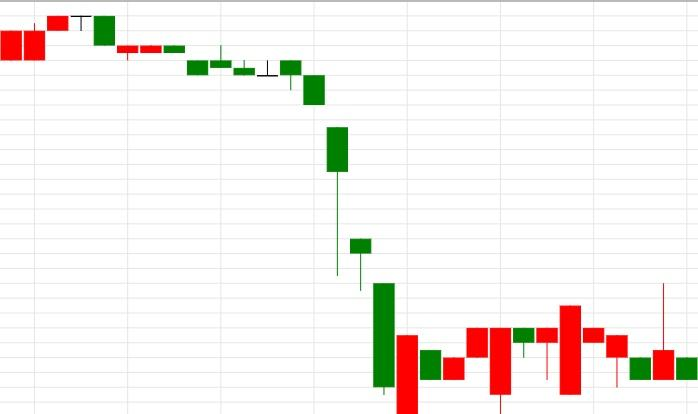bullish_engulfing_rise: (559, 283, 675, 395)
hanging_man_fall: (396, 327, 559, 414)
inverse_hammer_rise: (560, 283, 675, 395)
